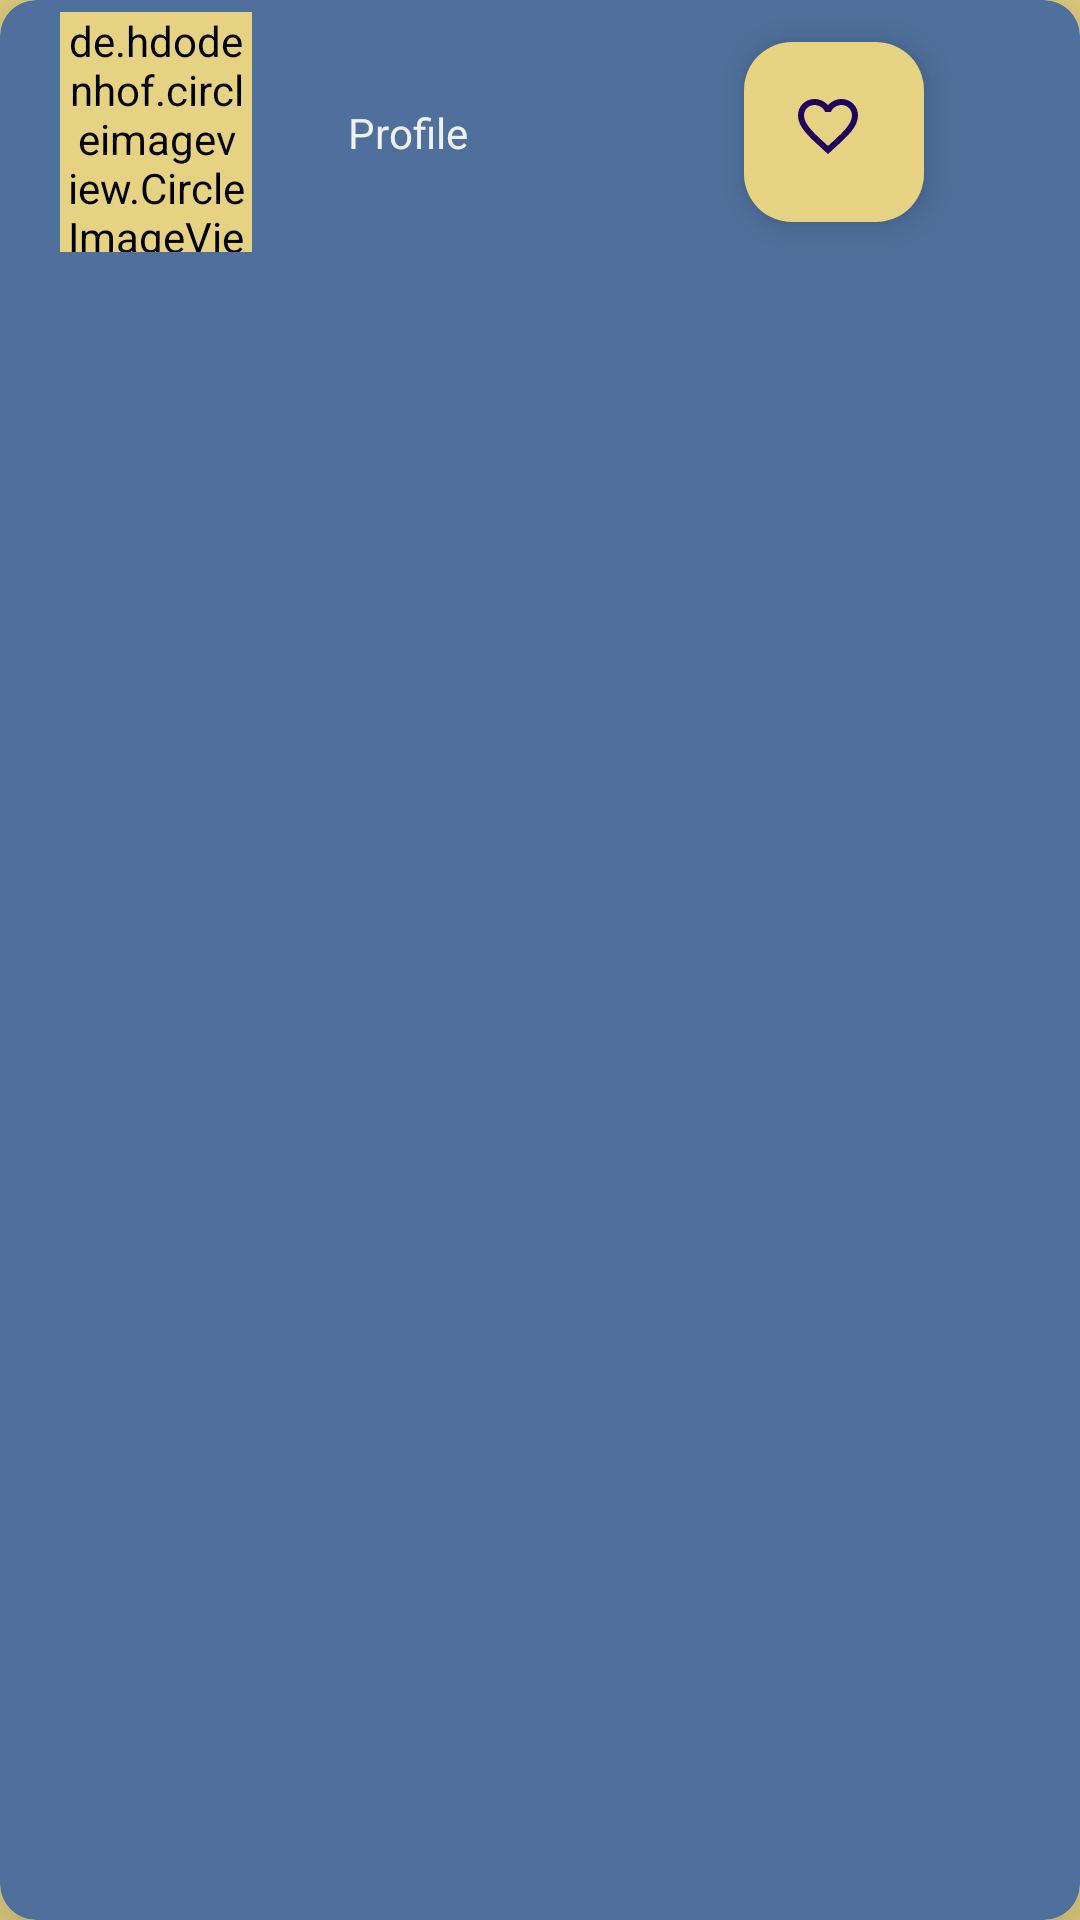

Screen size 1080x1920. Icon name, then its box in pixels as (x1, y1, x2, y2):
favorite: (744, 42, 924, 222)
